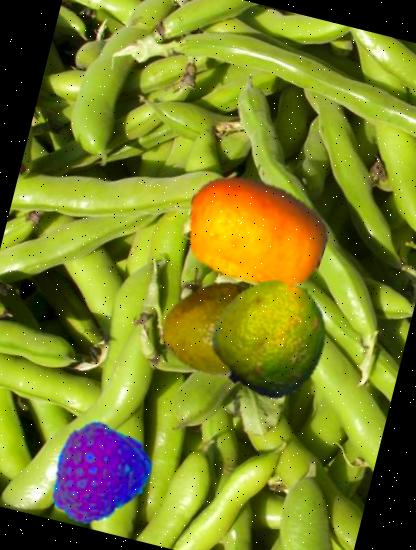Guava: (150, 263, 283, 396)
Kumquats: (170, 146, 342, 320)
Limes: (200, 264, 346, 412)
Raspberry: (32, 407, 159, 534)
